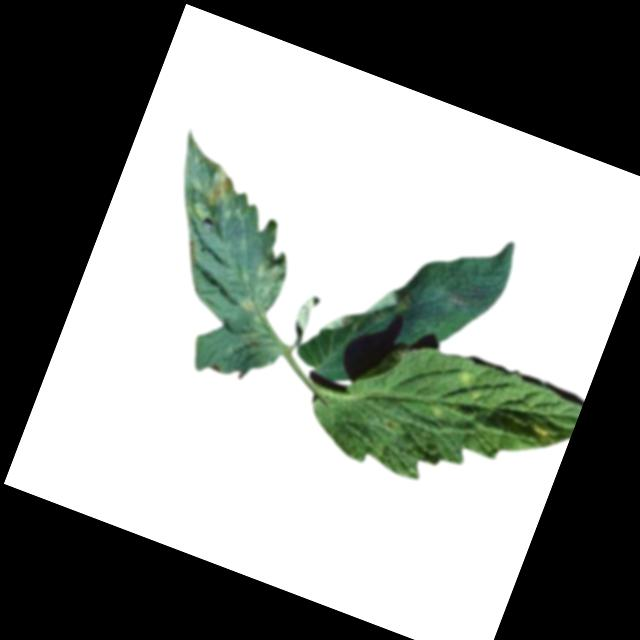Leaf_Mold: (322, 270, 411, 354), (233, 246, 294, 322), (185, 158, 239, 224), (449, 365, 492, 404), (522, 414, 553, 445)
